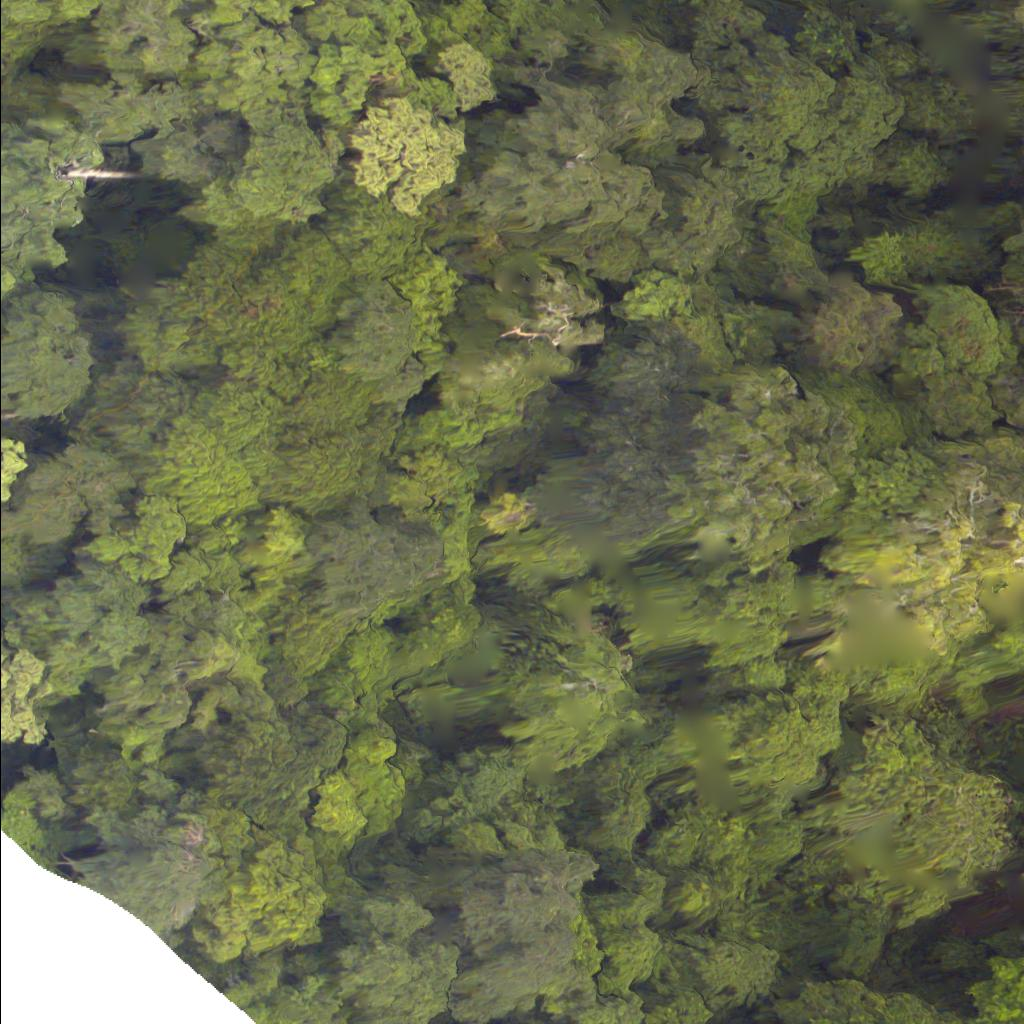crown: (80, 0, 431, 237), (807, 718, 1007, 927), (113, 220, 352, 393), (563, 860, 791, 1023), (257, 505, 455, 678), (178, 669, 343, 845), (457, 843, 610, 1023), (187, 843, 336, 962), (336, 897, 461, 1023), (343, 96, 468, 221), (316, 731, 413, 875), (0, 620, 50, 754), (772, 993, 953, 1023), (0, 413, 41, 513), (970, 954, 1023, 1023), (508, 1018, 553, 1023)
